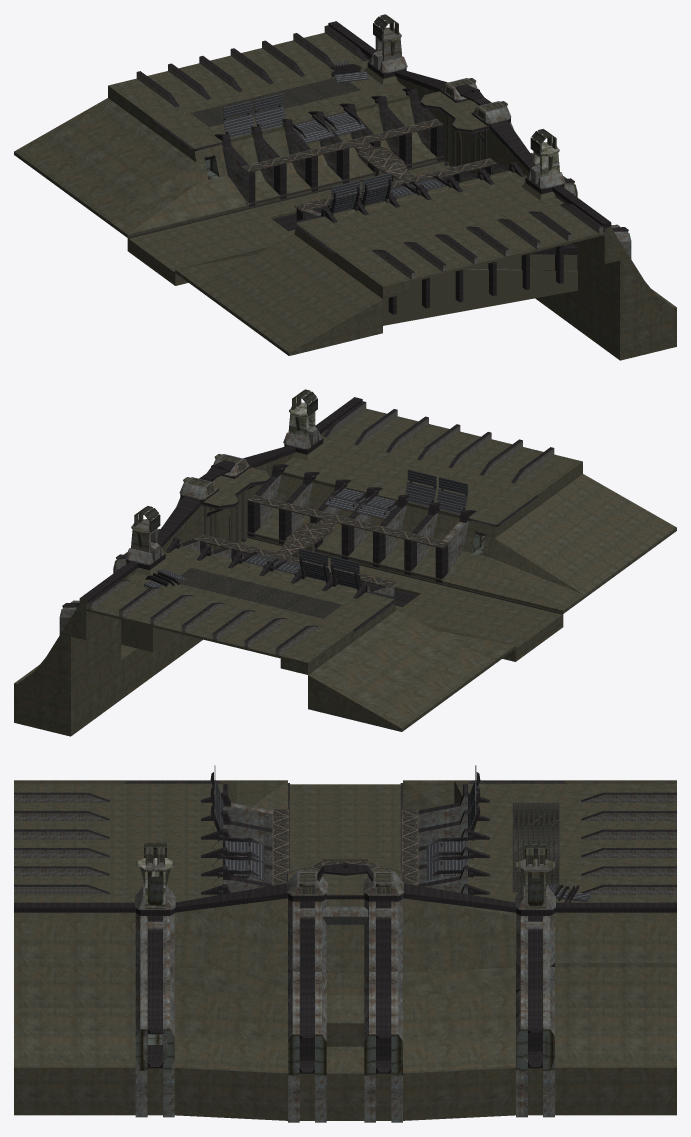
Rendered from Dam_Final_01.fbx.
3 renders of one model, top to bottom at view 1: azimuth 30°, elevation 25°; view 2: azimuth 150°, elevation 25°; view 3: azimuth 270°, elevation 25°, orthographic. The views are drawn at different scales.
Parts seen in each view (by area): view 1: Object; view 2: Object; view 3: Object.
Boxes of the visible parts, x1,y1,x2,y2 form: Object: [14, 14, 676, 360]; Object: [14, 389, 676, 736]; Object: [14, 765, 676, 1122].
Bounding box in the file's own units: 24322 × 10803 × 28522.
